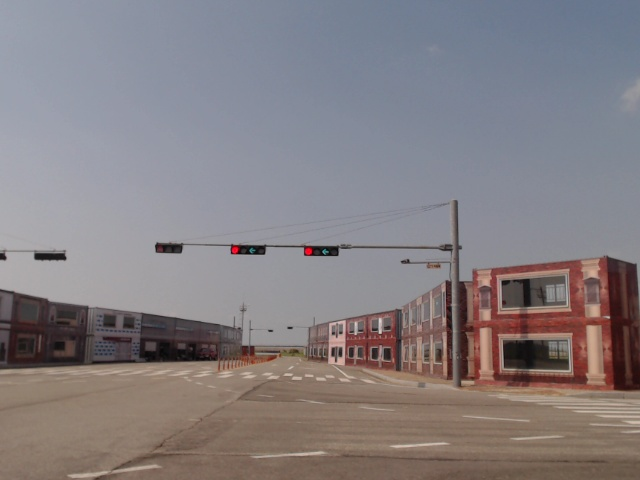left_green_4: (305, 247, 338, 256), (231, 246, 264, 254)
